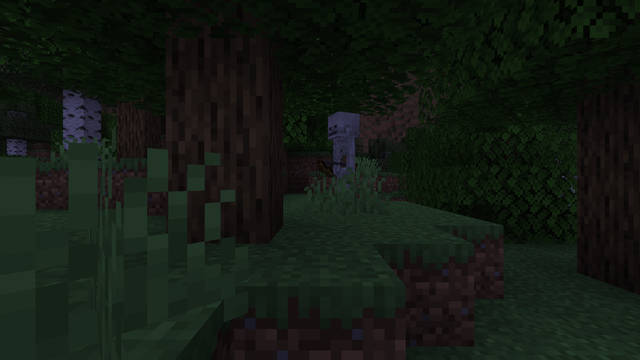squelettes: (328, 112, 358, 210)
